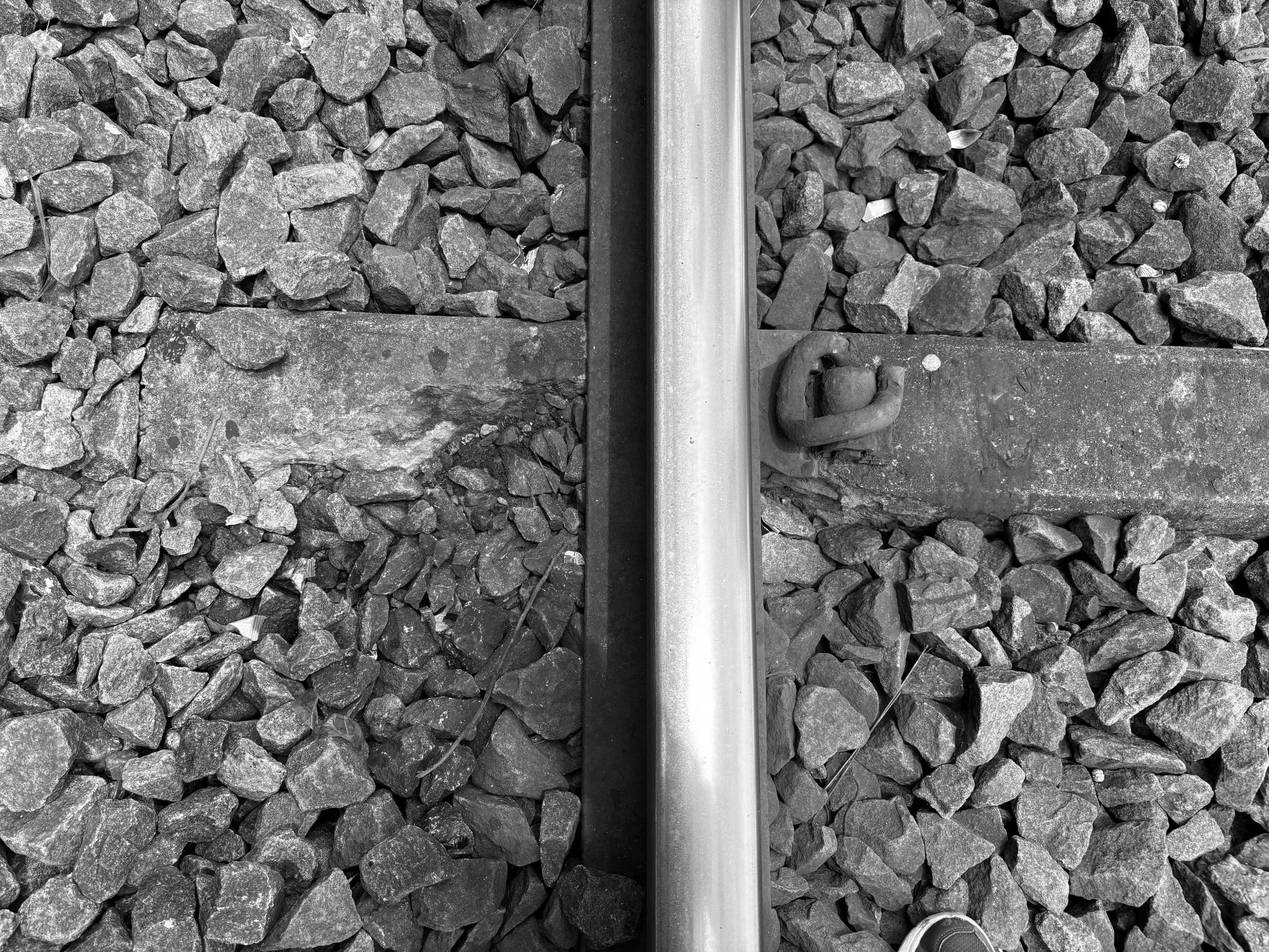cracks under rail seat: (208, 365, 591, 487), (755, 454, 968, 550)
